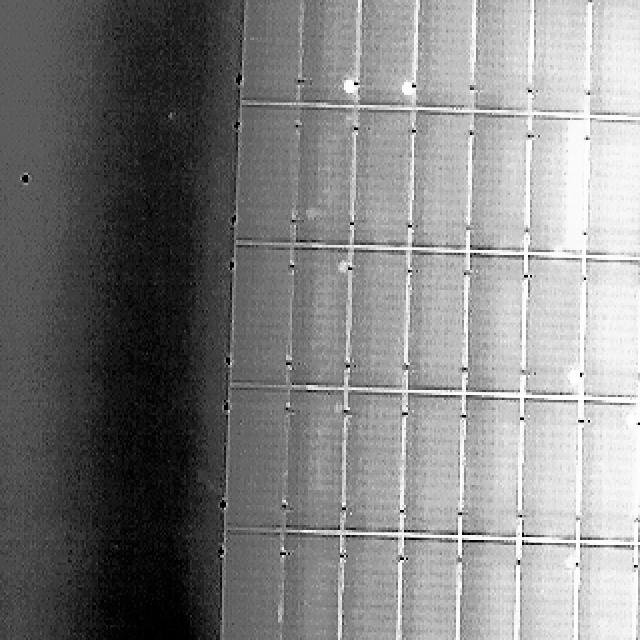Hotspots: (339, 74, 360, 101), (563, 364, 583, 392), (400, 75, 418, 101), (622, 409, 640, 432)
PV-modules: (227, 386, 290, 532), (402, 393, 464, 538), (348, 391, 409, 536), (351, 247, 412, 390), (287, 247, 348, 389), (356, 108, 417, 249), (407, 250, 468, 391), (461, 252, 522, 393), (238, 105, 299, 246), (411, 110, 471, 252), (576, 400, 636, 542), (285, 389, 344, 533), (458, 394, 517, 538), (233, 246, 293, 387), (579, 258, 638, 400), (526, 254, 584, 397), (470, 117, 530, 255), (529, 119, 588, 258), (294, 106, 352, 247), (582, 115, 640, 255), (524, 396, 580, 540), (342, 532, 406, 640), (532, 1, 591, 118), (278, 530, 340, 640), (222, 530, 284, 640), (468, 0, 528, 112), (413, 0, 474, 110), (359, 0, 420, 108), (243, 1, 304, 108), (302, 1, 362, 109), (584, 0, 640, 115), (398, 535, 458, 640), (516, 537, 576, 640), (454, 535, 512, 640), (570, 542, 632, 640), (638, 542, 640, 640)
